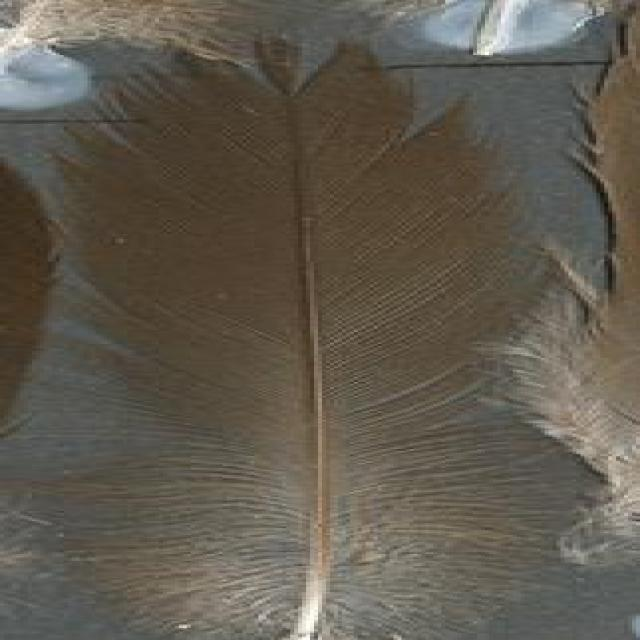feather: (58, 45, 560, 640)
